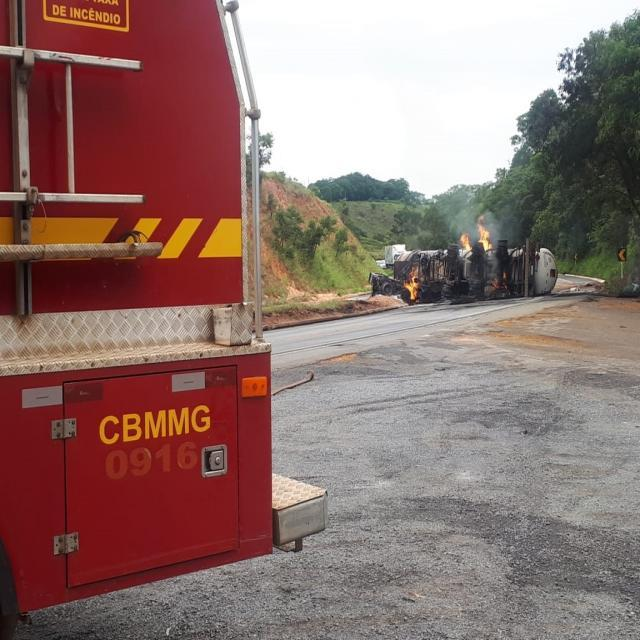Fire: (401, 270, 421, 300), (475, 217, 493, 250), (459, 232, 474, 250)
